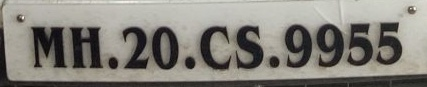character: (29, 24, 69, 70), (198, 23, 232, 72), (68, 24, 104, 69), (149, 22, 181, 71), (233, 23, 265, 71), (313, 23, 345, 69), (120, 24, 150, 71), (283, 22, 313, 69), (345, 20, 374, 67), (375, 18, 403, 66)
